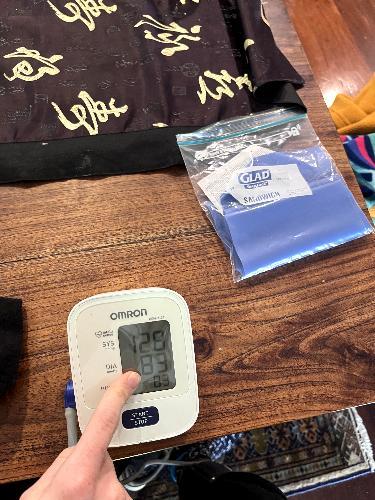bpm: (116, 319, 177, 398)
